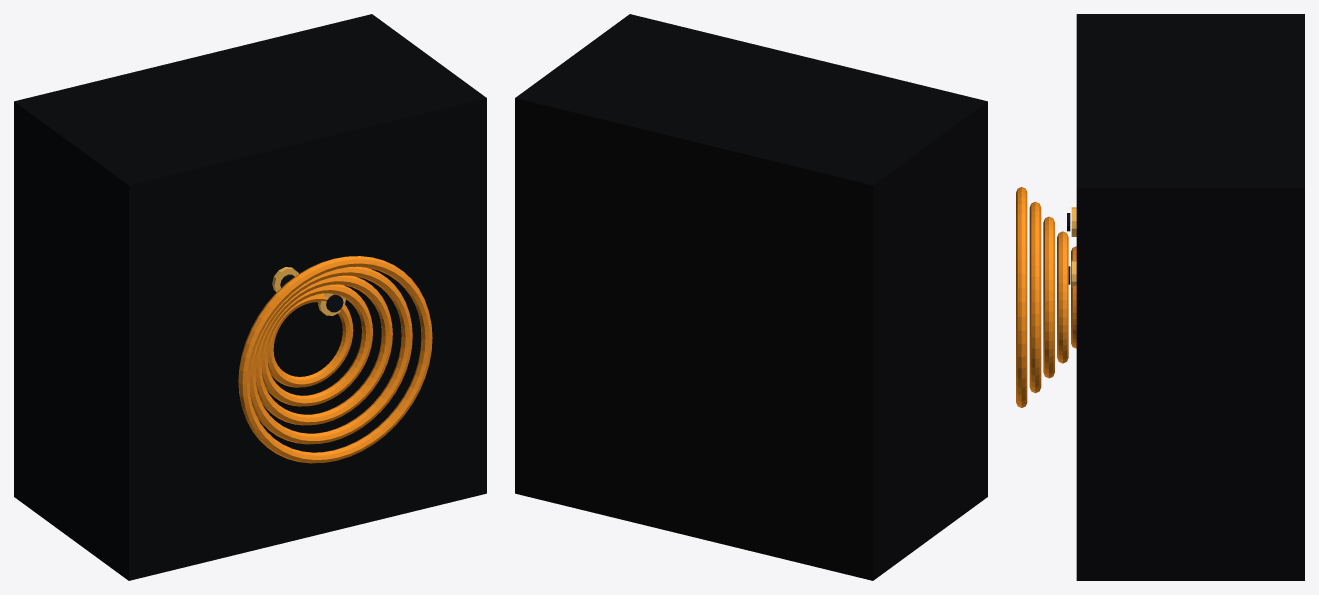
File: 91_L91_DeepSpaceCommunicationsBlackoutSimulator.fbx
3 views of the same model, side by side, from view 1: azimuth 30°, elevation 25°; view 2: azimuth 150°, elevation 25°; view 3: azimuth 270°, elevation 25° (orthographic).
Visible parts, largest first — view 1: L91_DeepSpaceCommunicationsBlackoutSimul_Part_0000, L91_DeepSpaceCommunicationsBlackoutSimul_Part_0001; view 2: L91_DeepSpaceCommunicationsBlackoutSimul_Part_0000; view 3: L91_DeepSpaceCommunicationsBlackoutSimul_Part_0000, L91_DeepSpaceCommunicationsBlackoutSimul_Part_0001.
Part boxes in pixels (x1,y1,x2,y2): L91_DeepSpaceCommunicationsBlackoutSimul_Part_0000: (14, 14, 486, 580); L91_DeepSpaceCommunicationsBlackoutSimul_Part_0001: (238, 256, 432, 463); L91_DeepSpaceCommunicationsBlackoutSimul_Part_0000: (515, 14, 987, 580); L91_DeepSpaceCommunicationsBlackoutSimul_Part_0000: (1076, 14, 1304, 580); L91_DeepSpaceCommunicationsBlackoutSimul_Part_0001: (1016, 187, 1076, 407).
Bounding box in the file's own units: 180 × 190 × 126.
